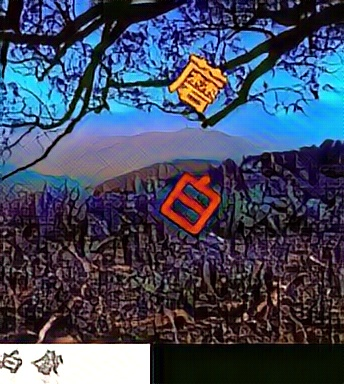B0D7: (160, 169, 223, 235)
C4A2: (166, 50, 229, 116)
